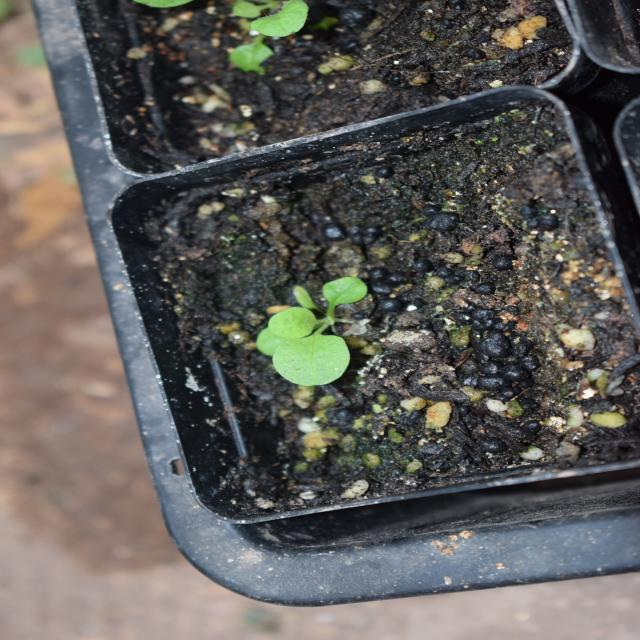Shepherd_Purse: (259, 247, 369, 387)
